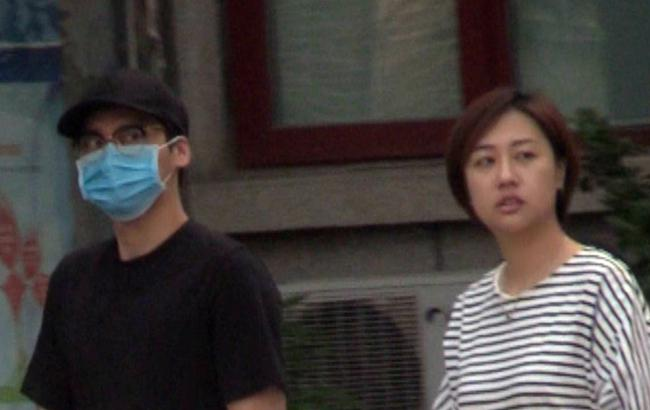NONE: (467, 129, 550, 234)
OK: (76, 110, 164, 218)
